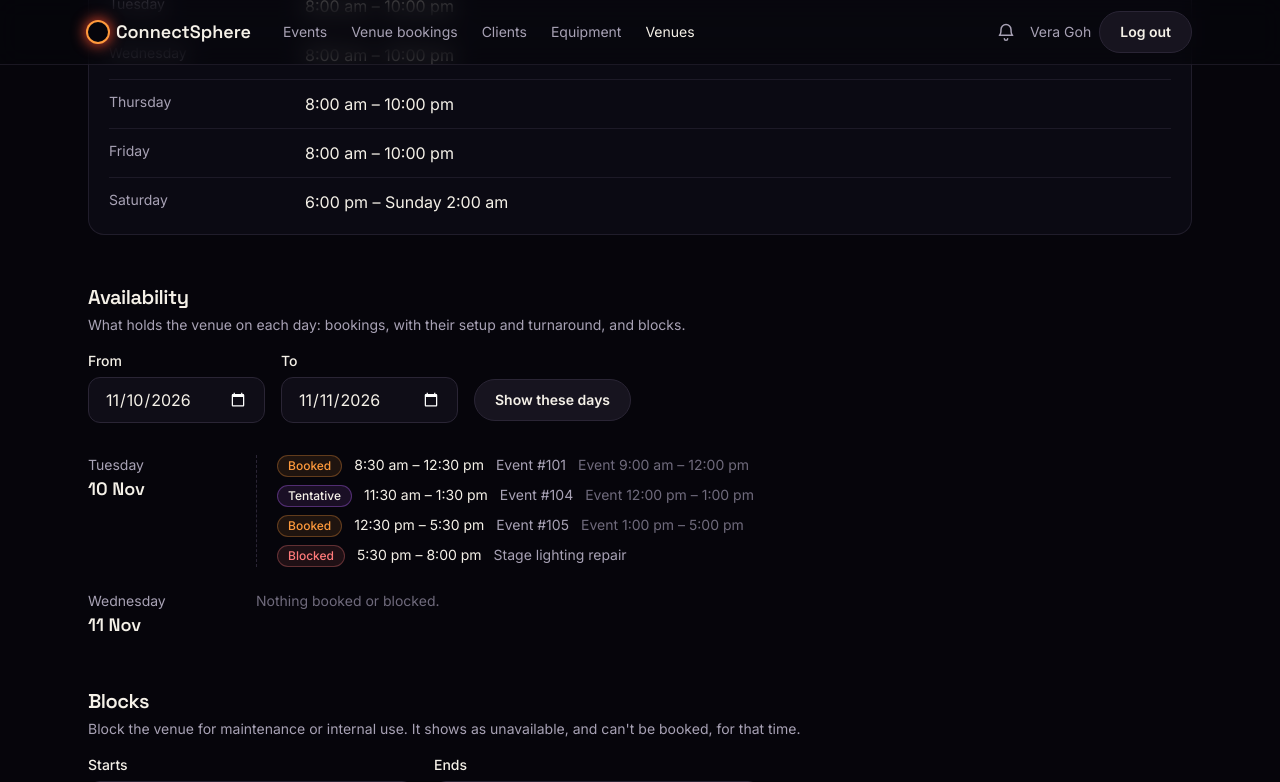
Test: SCRUM-26 a venue’s availability, day by day (AC1, AC2) › shows other days once chosen, keeping them in the address
The image size is (1280, 782).
(page scrolled)
Expected: the element "Tuesday 10 Nov" is shown, left=88, top=455, right=1192, bottom=567
In the date field labelled "From": (176, 400) left=88, top=377, right=265, bottom=423, type "2026-11-12"
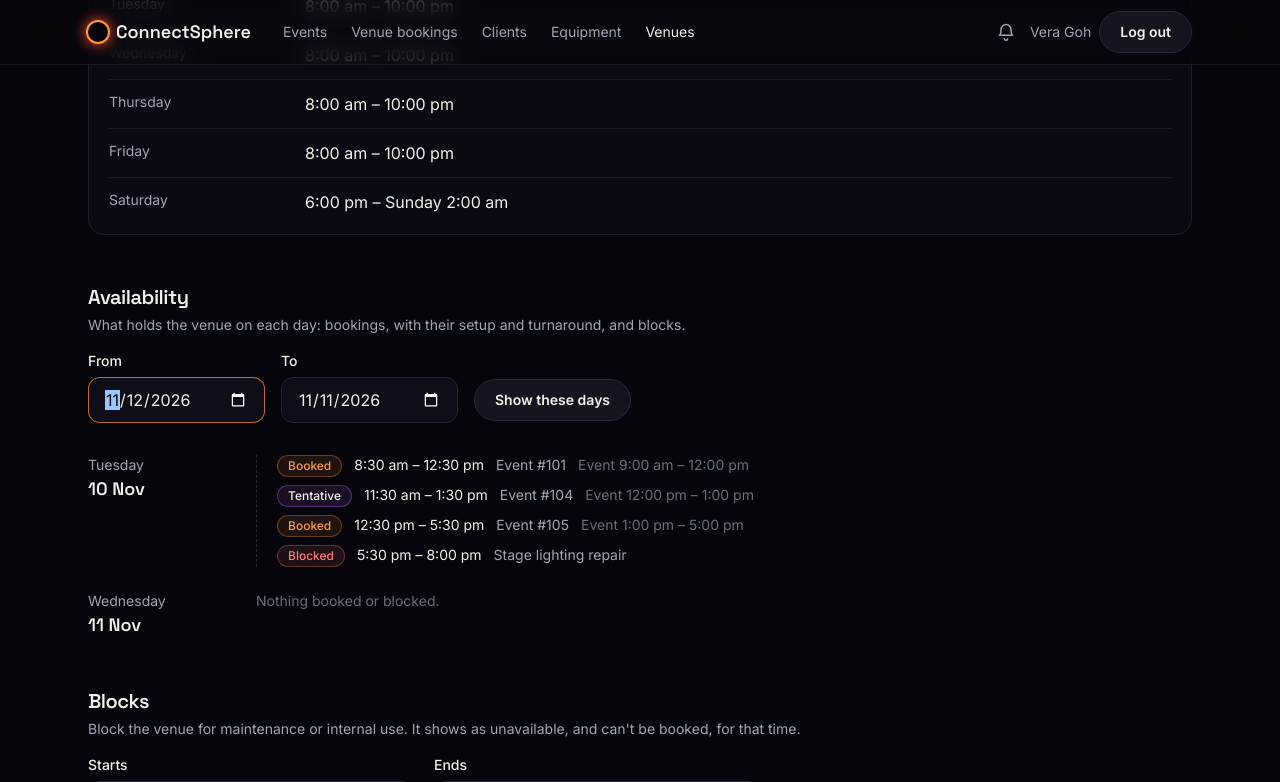
In the date field labelled "To": (370, 400) left=281, top=377, right=458, bottom=423, type "2026-11-12"
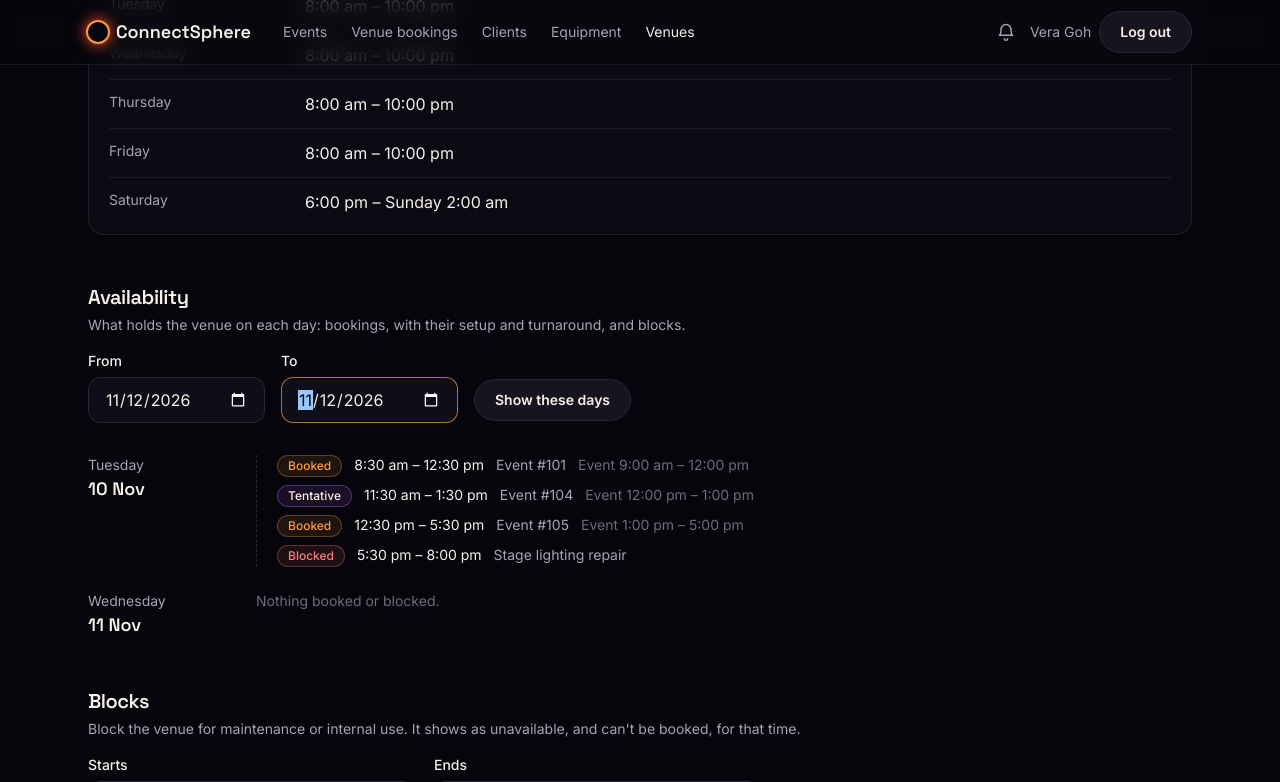
Click the button "Show these days": (553, 400) left=474, top=379, right=631, bottom=421
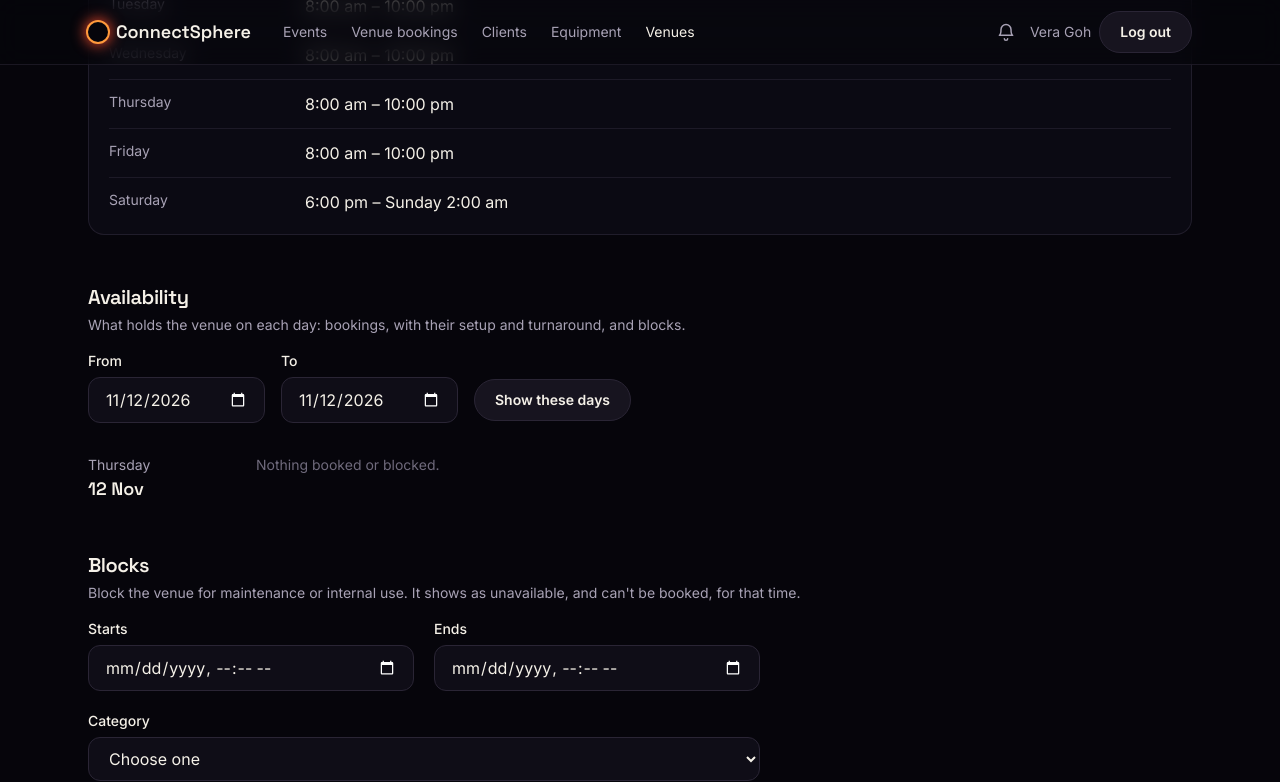
Result: the element "Thursday 12 Nov" is shown at left=88, top=456, right=440, bottom=500
Result: the heading "Tuesday 10 Nov" is gone
